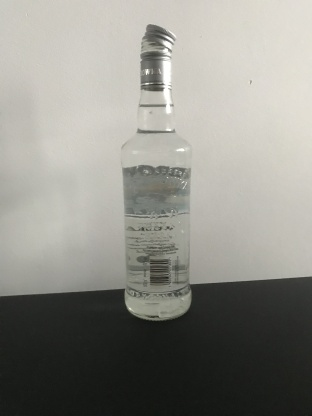nakretka: (138, 21, 177, 91)
